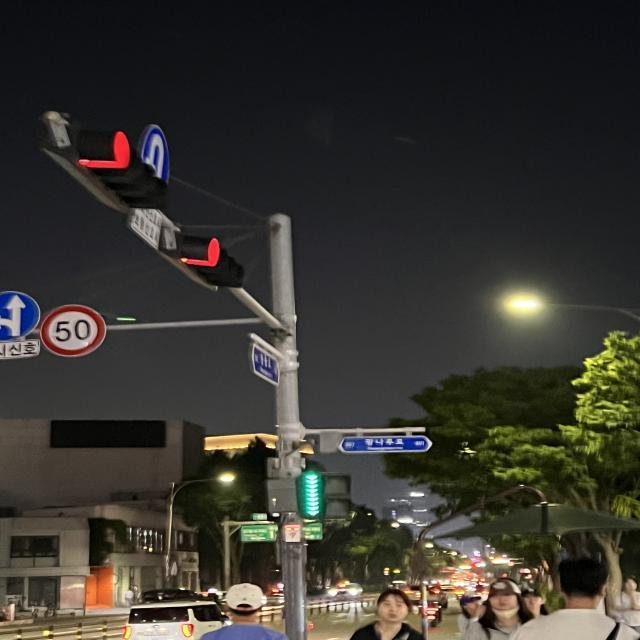geen-crossing: (296, 468, 362, 544)
